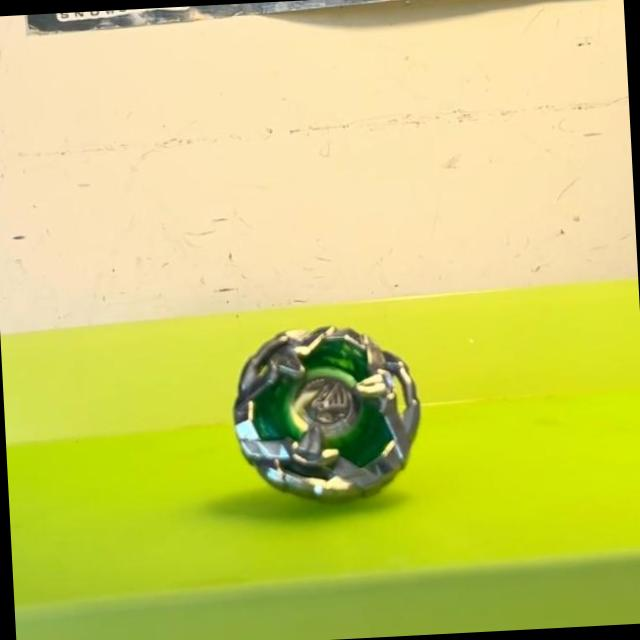Beyblade: (228, 320, 426, 504)
